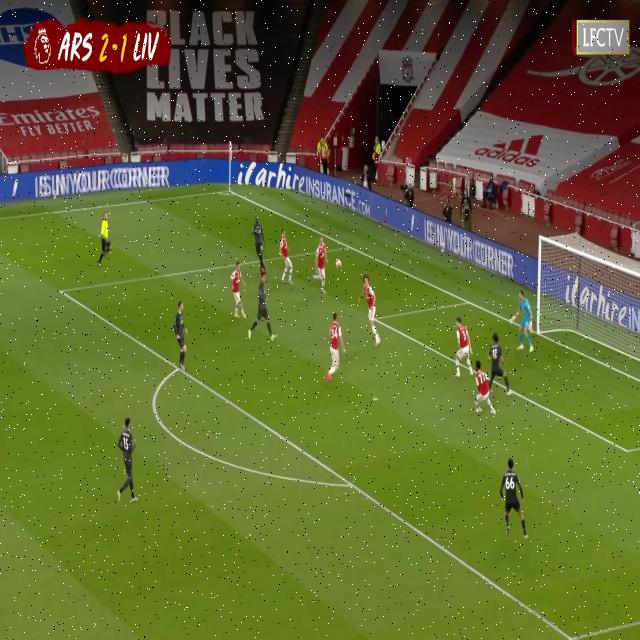Ball: (336, 260, 342, 270)
GoalKeeper: (511, 289, 534, 354)
TEAM 1: (360, 273, 383, 351), (471, 363, 497, 419), (454, 316, 476, 382), (328, 316, 346, 384), (232, 264, 246, 324), (312, 238, 327, 293), (279, 231, 293, 287)
TEAM 2: (499, 458, 528, 541), (246, 270, 275, 342), (118, 418, 139, 502), (486, 335, 512, 397), (174, 301, 190, 369), (254, 218, 266, 265)
